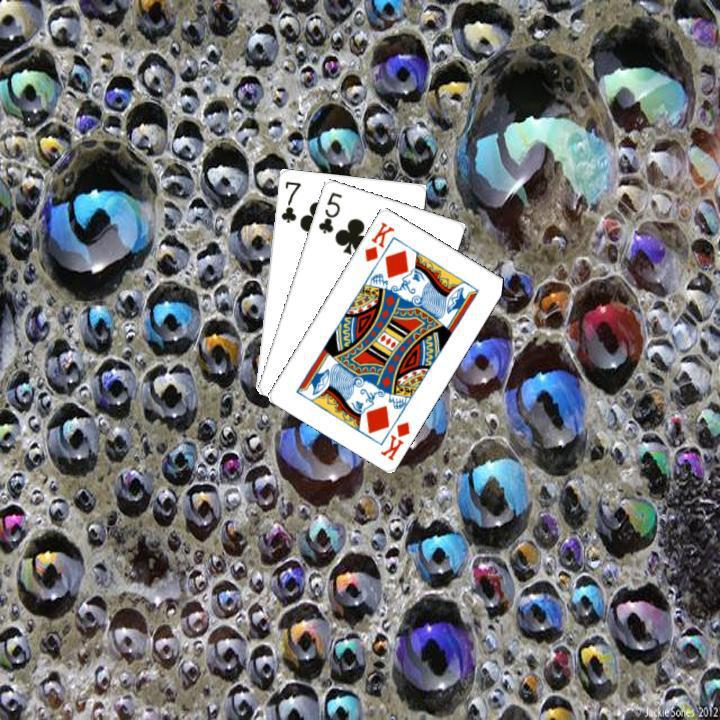5: (314, 187, 344, 235)
7: (277, 176, 303, 224)
K: (360, 217, 397, 264), (376, 416, 412, 462)
